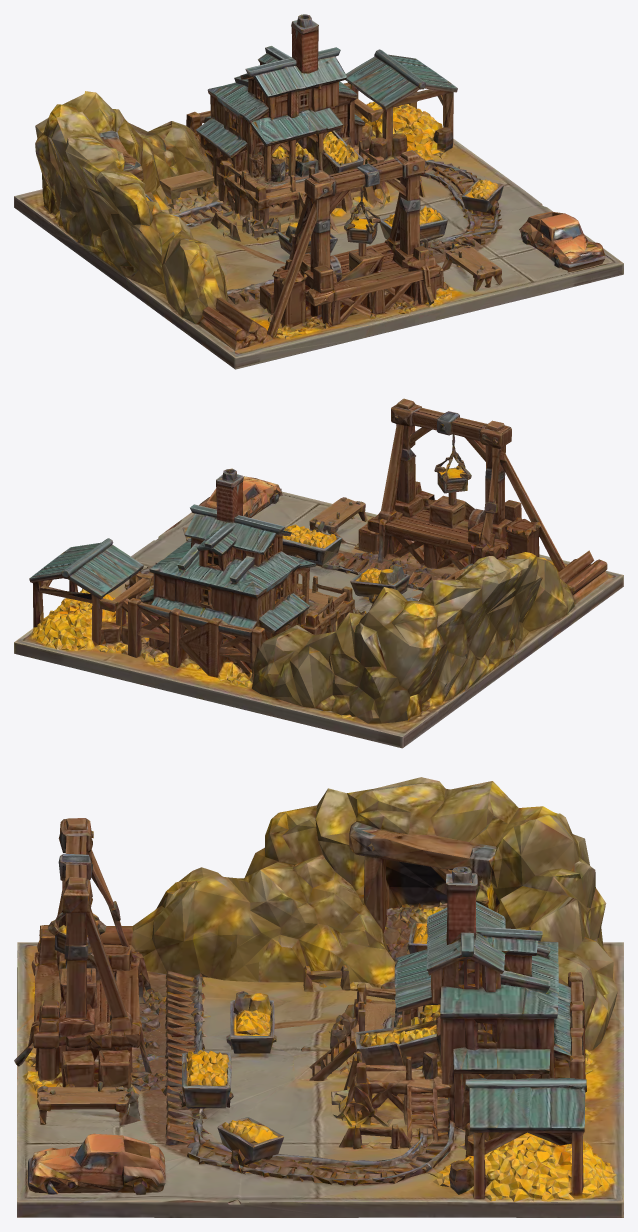
File: gold_mine.glb
The picture shows the model from 3 angles, top to bottom: view 1: azimuth 30°, elevation 25°; view 2: azimuth 150°, elevation 25°; view 3: azimuth 270°, elevation 25°; orthographic projection. The views are drawn at different scales.
Parts seen in each view (by area): view 1: normalize; view 2: normalize; view 3: normalize.
Boxes of the visible parts, x1,y1,x2,y2 form: normalize: [14, 14, 623, 369]; normalize: [14, 398, 623, 748]; normalize: [14, 777, 623, 1217].
Size of the model in its own units: 1 by 0.4123 by 0.9377.
1 material, 1 textured.
